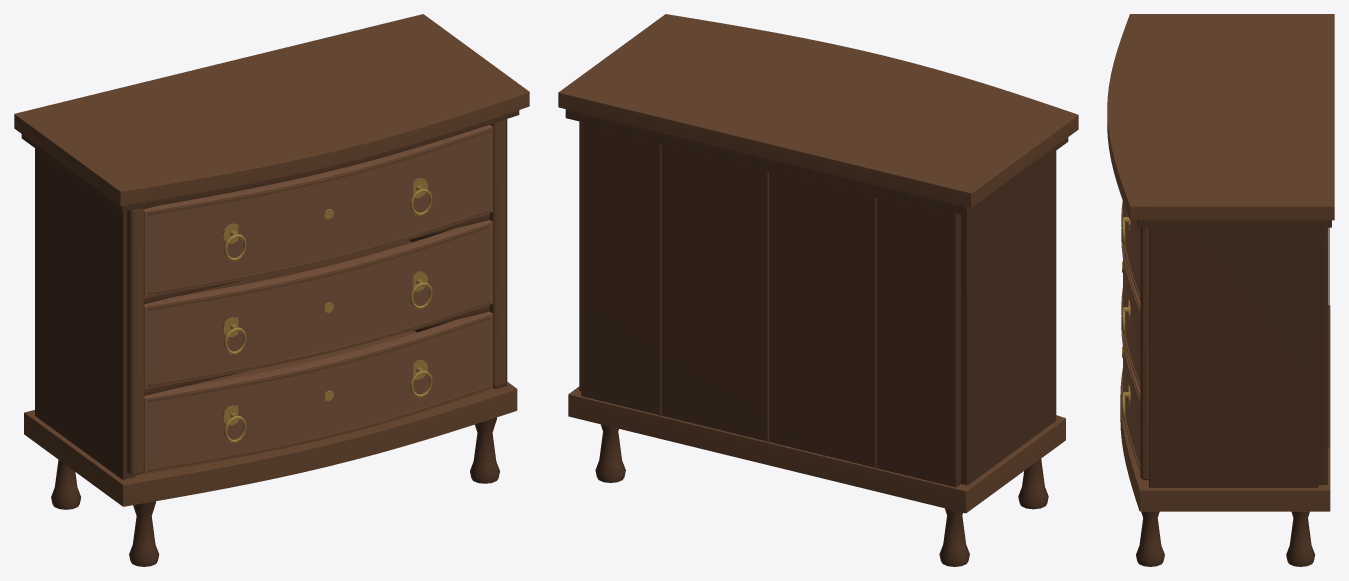
Rendered from rpg-mansion-bow-commode-01.glb.
The picture shows the model from 3 angles, left to right: view 1: azimuth 30°, elevation 25°; view 2: azimuth 150°, elevation 25°; view 3: azimuth 270°, elevation 25°; orthographic projection. The views are drawn at different scales.
Visible parts, largest first — view 1: rpg-mansion-bow-commode-01; view 2: rpg-mansion-bow-commode-01; view 3: rpg-mansion-bow-commode-01.
Boxes of the visible parts, x1,y1,x2,y2 form: rpg-mansion-bow-commode-01: (14, 14, 529, 566); rpg-mansion-bow-commode-01: (558, 14, 1078, 566); rpg-mansion-bow-commode-01: (1107, 14, 1334, 566).
Bounding box in the file's own units: 1 × 0.9 × 0.5.
